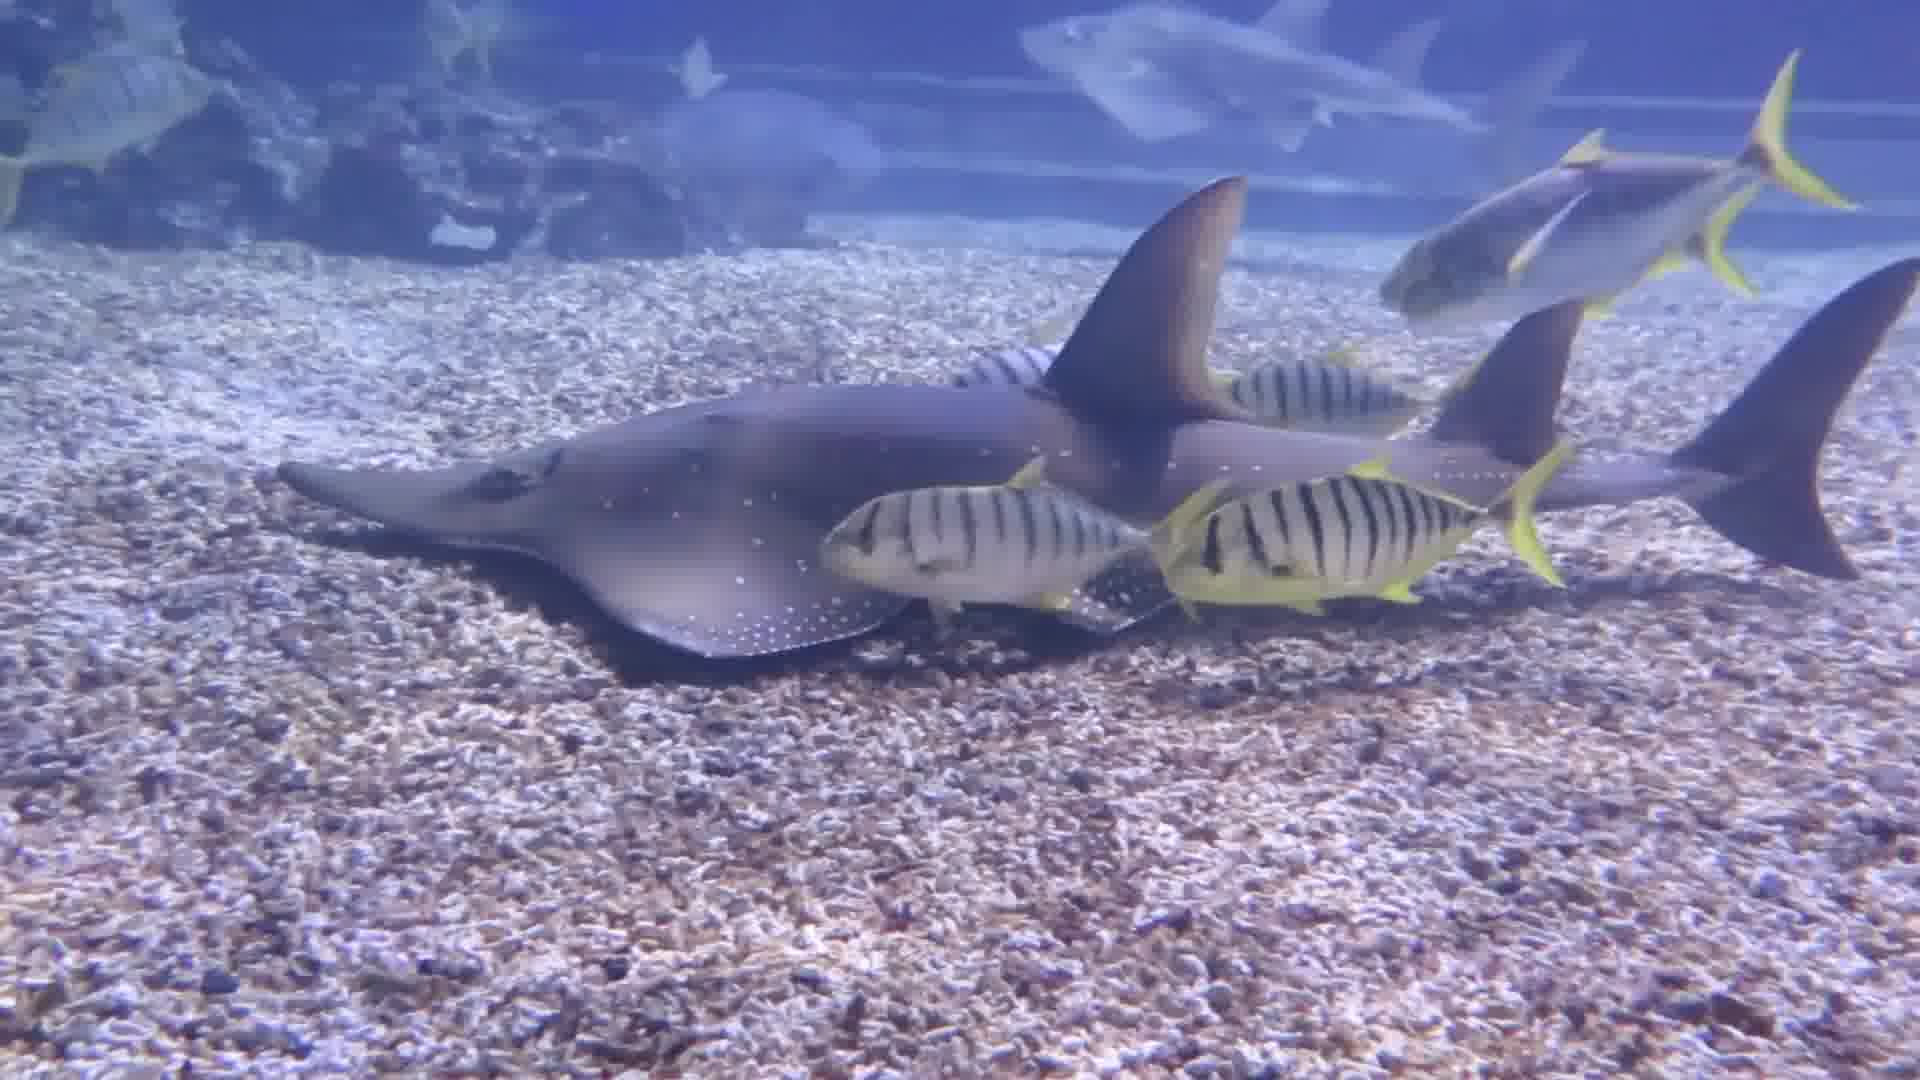Rhychobatus djiddensis: (257, 167, 1905, 646)
